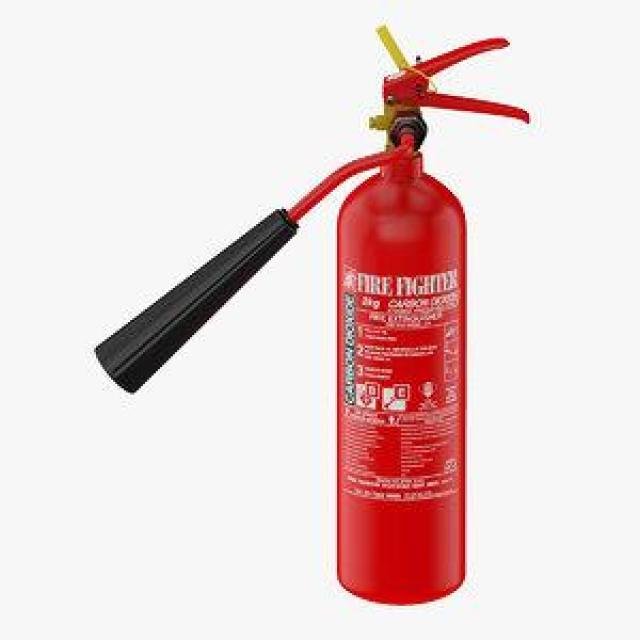fire_extinguisher: (81, 18, 542, 613)
